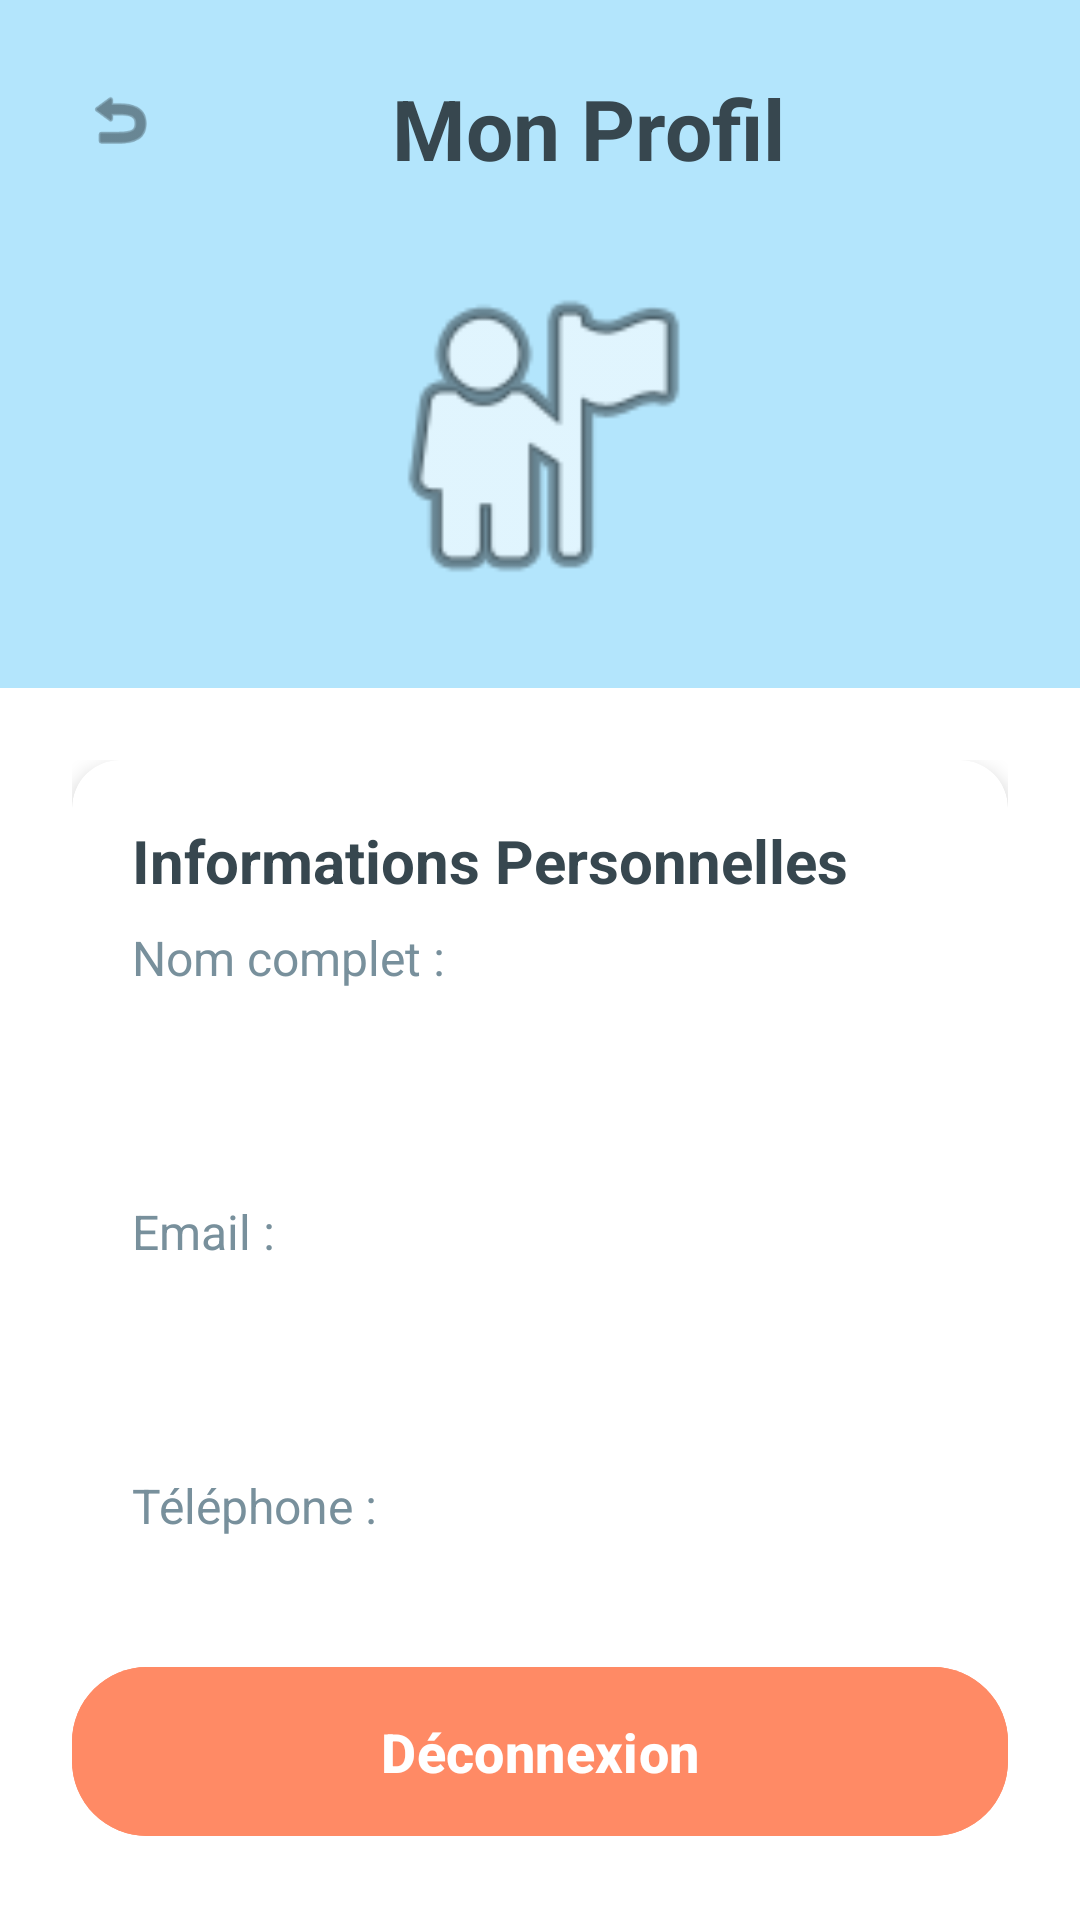

Icons on this 1080 × 1920 Android screen, each with the point to tap as (x,y):
Retour: (121,120)
